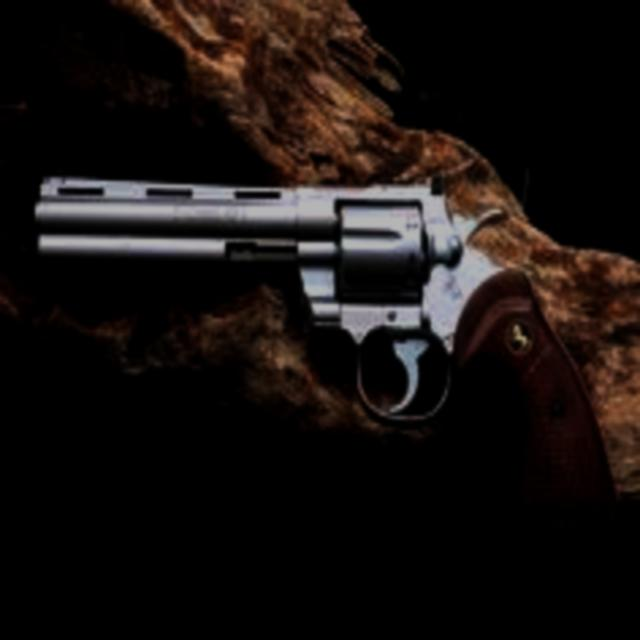revolver: (11, 110, 637, 570)
